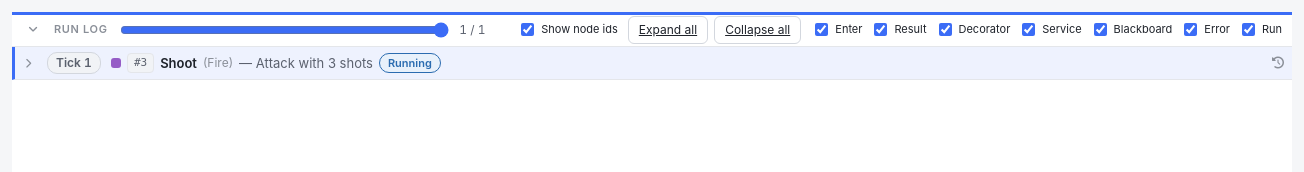
Scenario: run log ids and descriptions › hides ids when the toggle is off and persists it
The image size is (1304, 172).
Click the checkbox labelled "Show node ids": point(528, 30) x1=521 y1=23 x2=534 y2=36
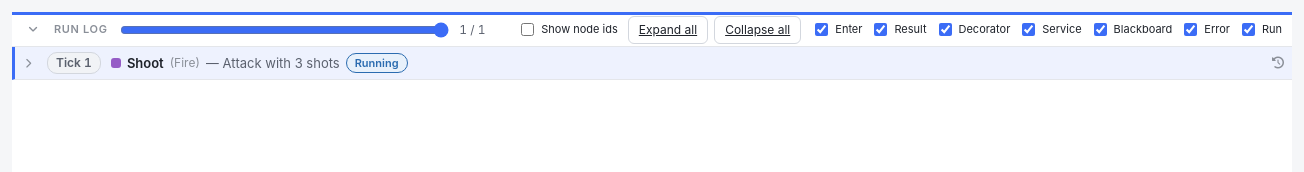
Now the text with test id "node-id" is gone
Click the checkbox labelled "Show node ids": point(528, 30) x1=521 y1=23 x2=534 y2=36
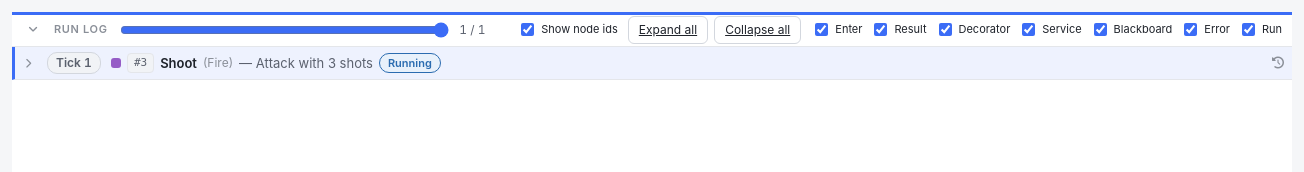
Now the text "#3" is shown, box x1=127 y1=53 x2=154 y2=73
